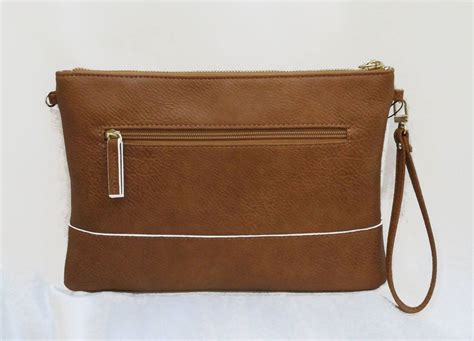cuero: (46, 61, 438, 313)
